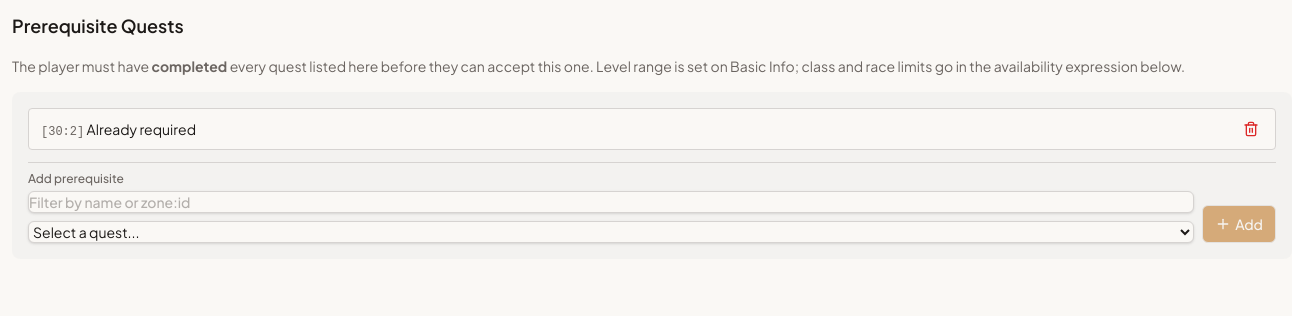
PrerequisitesEditor › shows the server error when a prerequisite is refused (loop)
Select "[30:4] The Cellar Door" in the dropdown named "Prerequisite quest" at coordinates (611, 232), box [28, 221, 1194, 243]
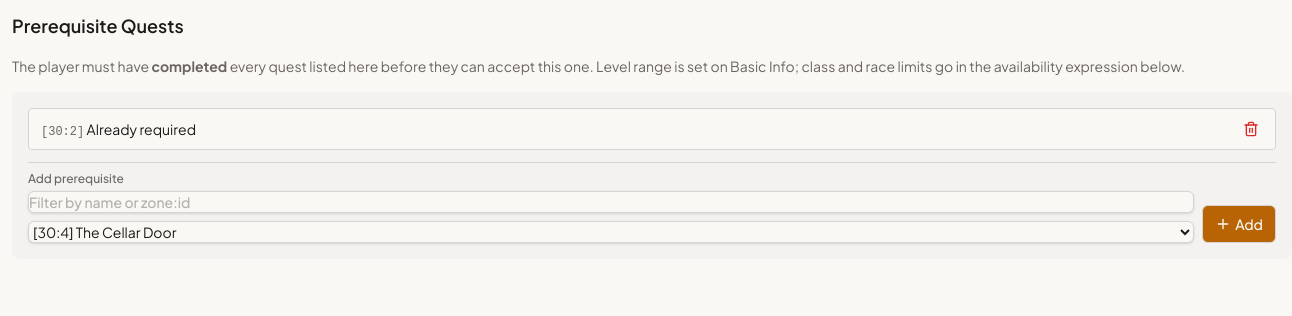
Click the button "Add" at coordinates (1239, 224), box [1202, 205, 1276, 243]
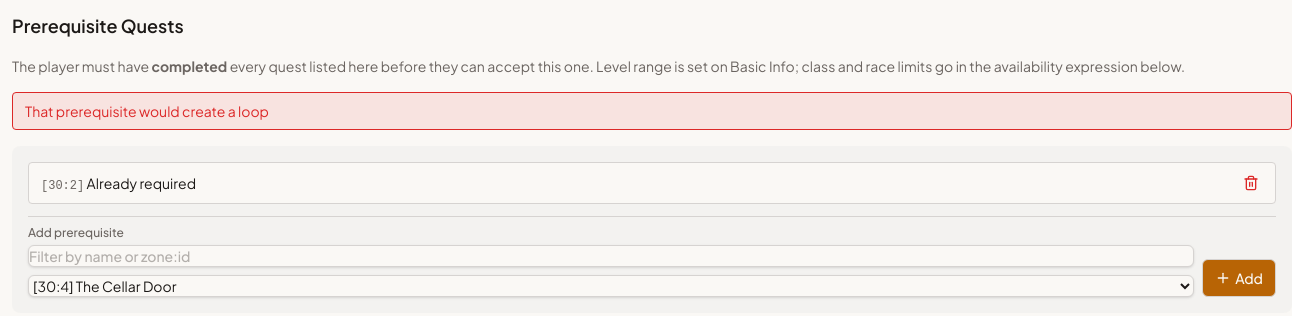
Result: the message shows "loop" at [25, 102, 269, 120]
